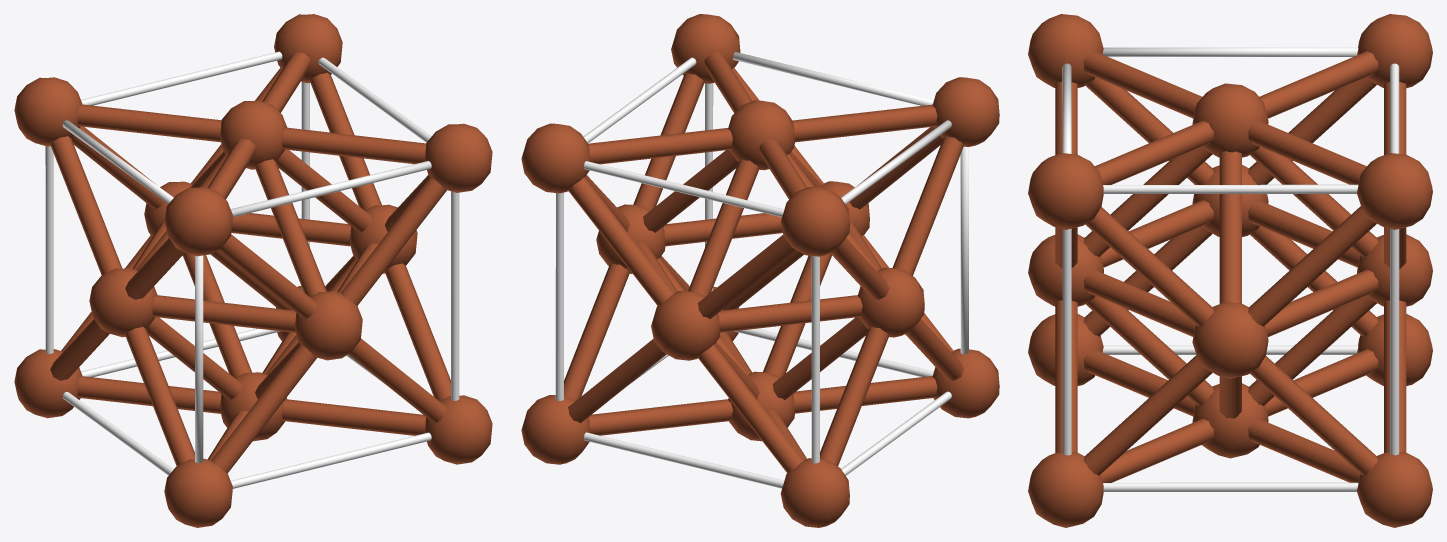
The model's file is COBRE.fbx.
The picture shows the model from 3 angles, left to right: view 1: azimuth 30°, elevation 25°; view 2: azimuth 150°, elevation 25°; view 3: azimuth 270°, elevation 25°; orthographic projection. The views are drawn at different scales.
Parts seen in each view (by area): view 1: Cu, limite.006; view 2: Cu, limite.006; view 3: Cu, limite.006.
Part boxes in pixels (x1,y1,x2,y2): Cu: (14, 14, 492, 527); limite.006: (45, 51, 459, 488); Cu: (521, 14, 999, 527); limite.006: (555, 52, 968, 488); Cu: (1028, 14, 1432, 527); limite.006: (1062, 47, 1399, 491).
Bounding box in the file's own units: 17.4 × 17.5 × 17.49.
